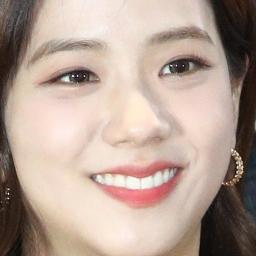face: (25, 0, 221, 256)
